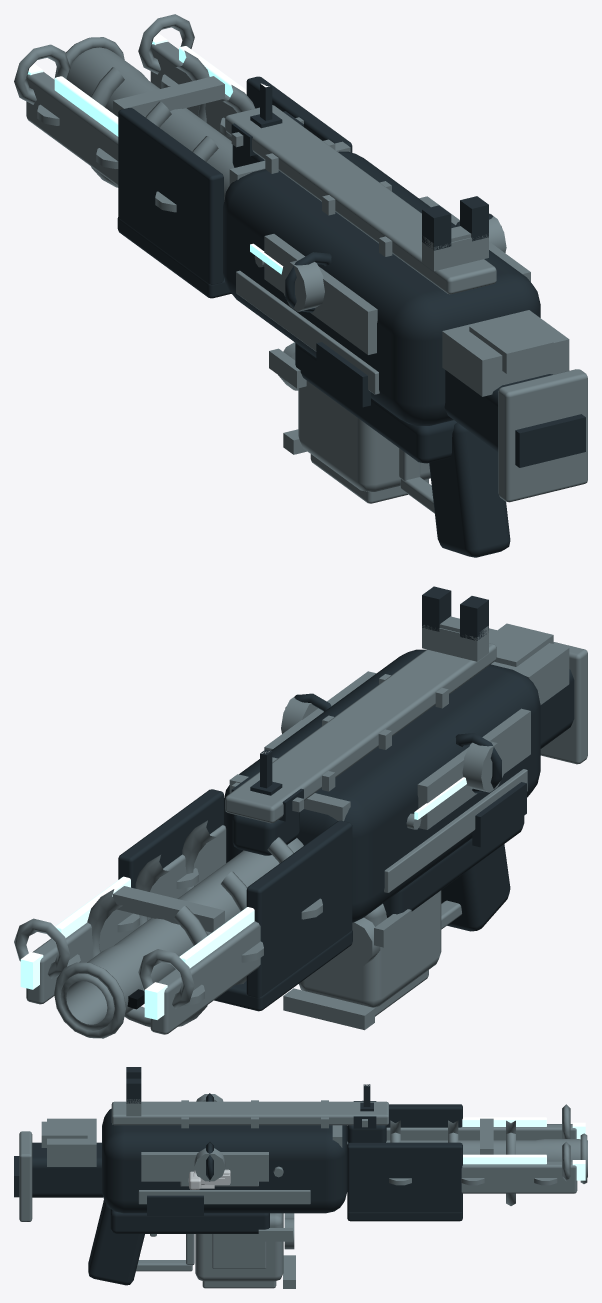
The model's file is weapon-6.glb.
3 renders of one model, top to bottom at view 1: azimuth 30°, elevation 25°; view 2: azimuth 150°, elevation 25°; view 3: azimuth 270°, elevation 25°, orthographic. The views are drawn at different scales.
Visible parts, largest first — view 1: body-dark, body-light, shock-emitter-light, feed-light, shock-emitter-glow; view 2: body-dark, body-light, shock-emitter-light, feed-light, shock-emitter-glow; view 3: body-dark, body-light, shock-emitter-light, feed-light, shock-emitter-glow, bolt-trim.
Part boxes in pixels (x1,y1,x2,y2): body-dark: (117, 76, 585, 557); body-light: (225, 105, 587, 513); shock-emitter-light: (14, 14, 255, 212); feed-light: (269, 342, 430, 503); shock-emitter-glow: (27, 33, 246, 136); body-dark: (118, 586, 574, 1011); body-light: (225, 616, 587, 929); shock-emitter-light: (14, 820, 322, 1038); feed-light: (283, 890, 441, 1030); shock-emitter-glow: (20, 876, 254, 1019); body-dark: (14, 1067, 462, 1285); body-light: (19, 1094, 388, 1271); shock-emitter-light: (347, 1104, 587, 1205); feed-light: (195, 1213, 295, 1288); shock-emitter-glow: (462, 1117, 585, 1180); bolt-trim: (188, 1169, 230, 1189).
Size of the model in its own units: 0.3174 by 0.4626 by 1.17.
